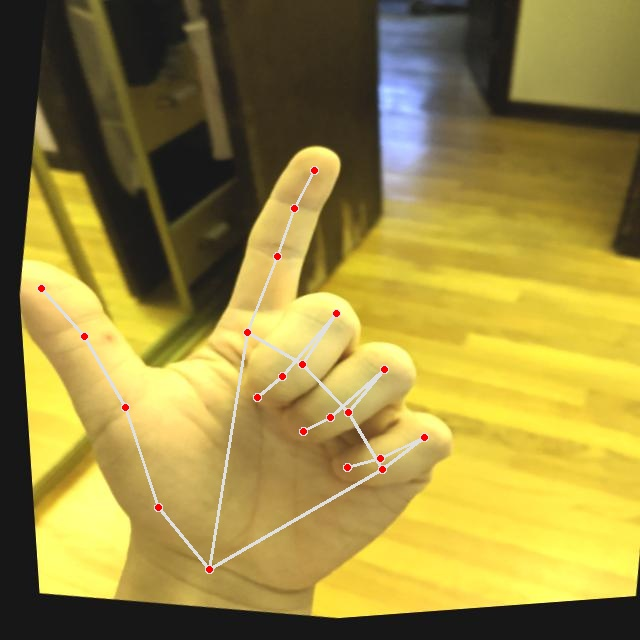L: (6, 89, 516, 627)
